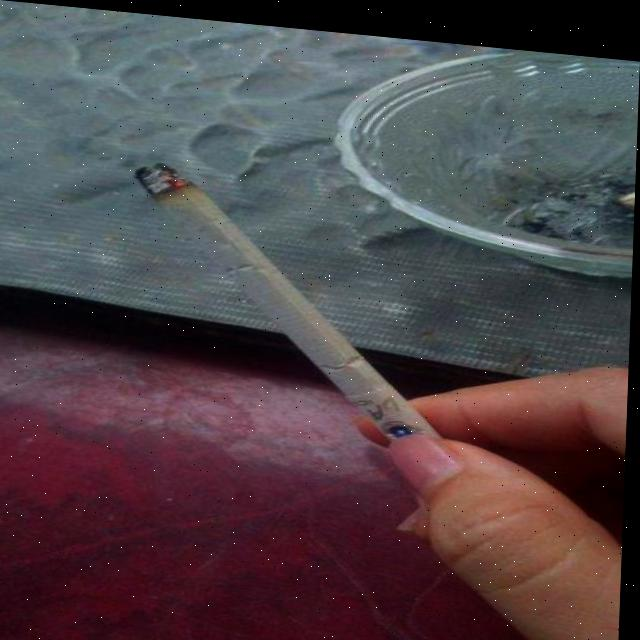cigarette: (131, 161, 451, 441)
